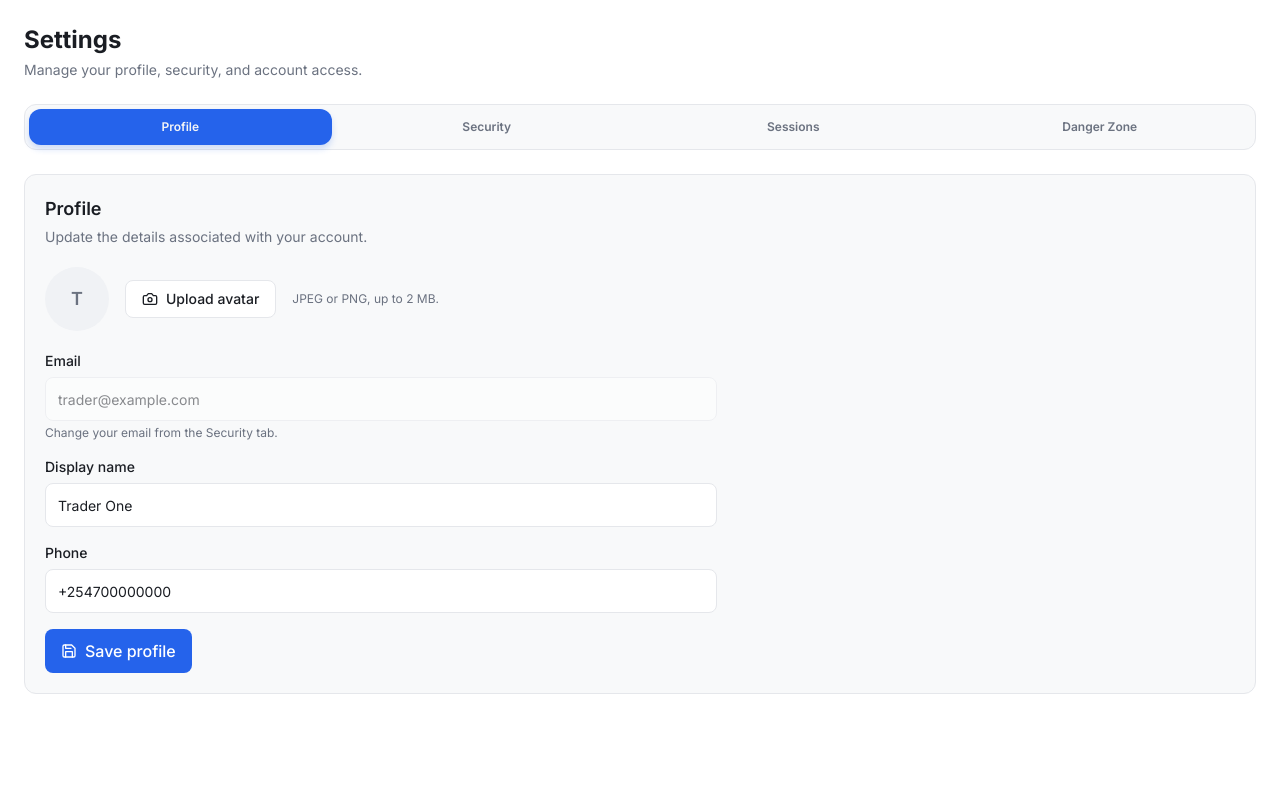
Test: SettingsPage › saves profile details through the users profile endpoint
The width and height of the screenshot is (1280, 800).
Expected: the heading "Profile" is shown, [45,198,102,219]
Replace the text in the field labelled "Display name" with "Updated Trader". click: (381, 505)
box: [45,483,717,527]
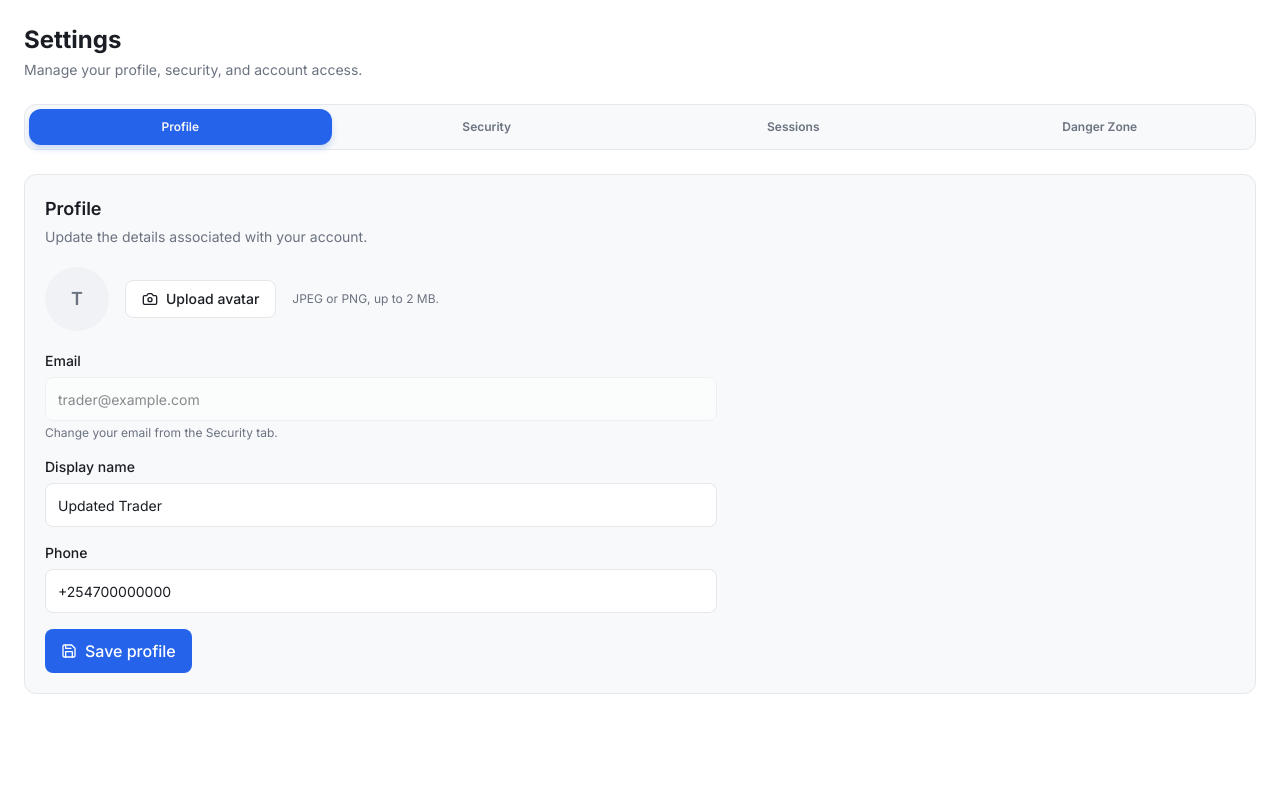
Replace the text in the field labelled "Phone" with "+254711111111". click: (381, 591)
box: [45,569,717,613]
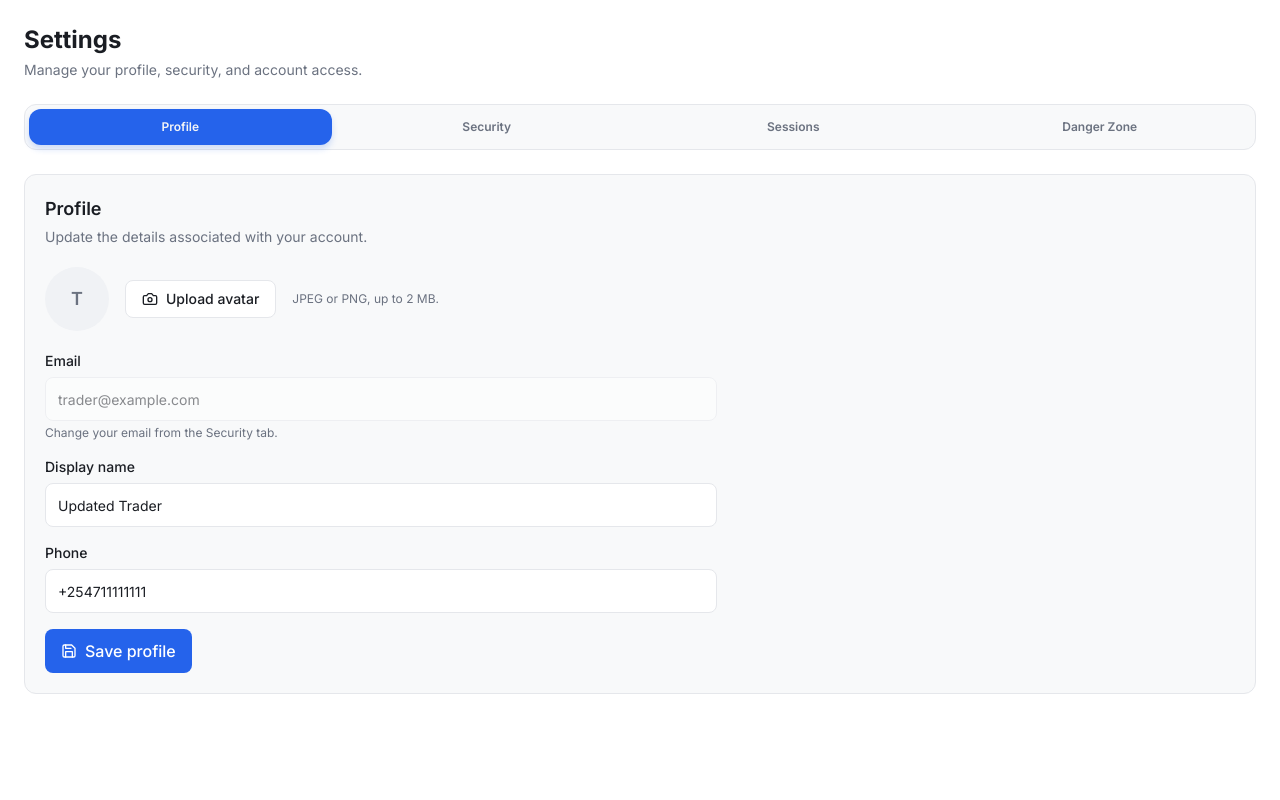
Click the button "Save profile". click: click(118, 651)
box: [45,629,192,673]
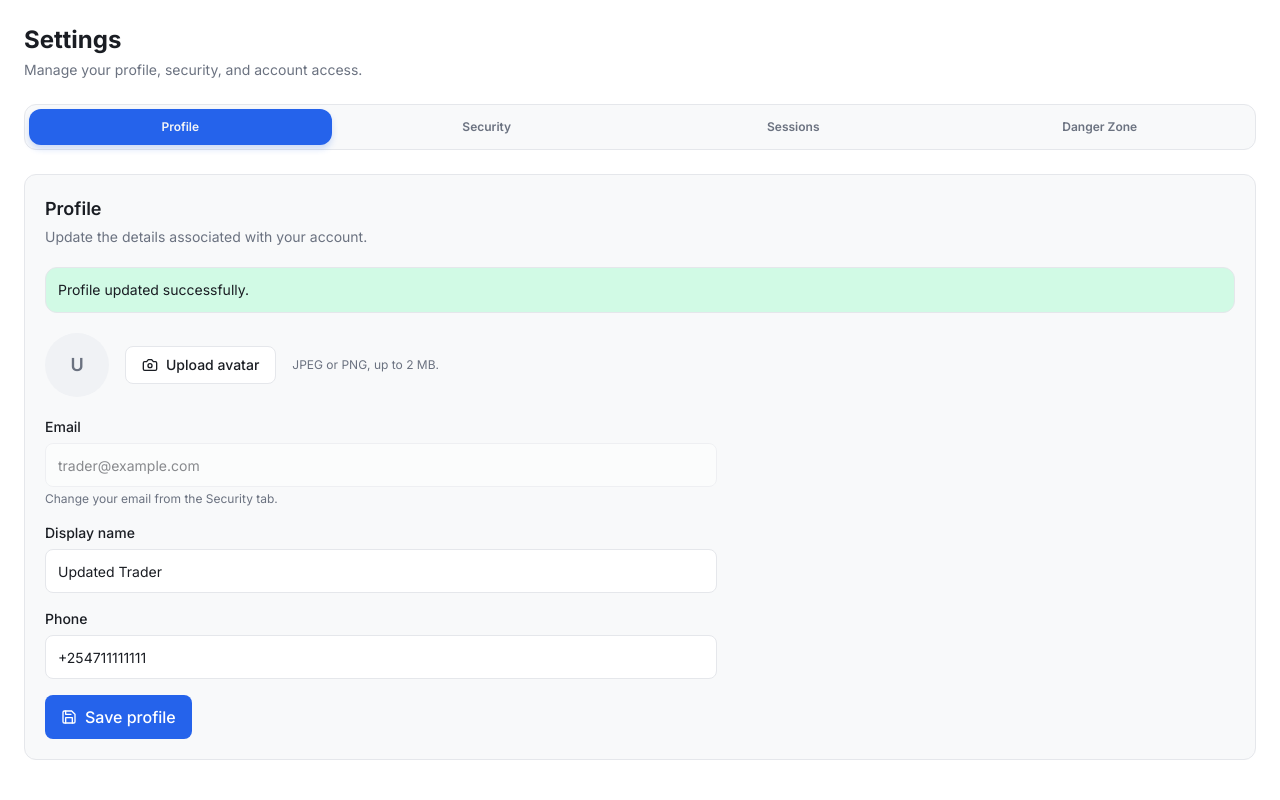
Expected: the message reads "Profile updated successfully.", [58,281,249,298]
